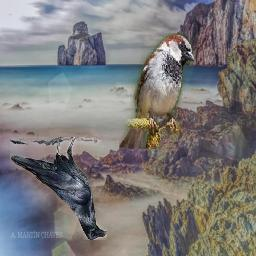Crow: (11, 138, 108, 241)
Sparrow: (120, 33, 195, 149)
